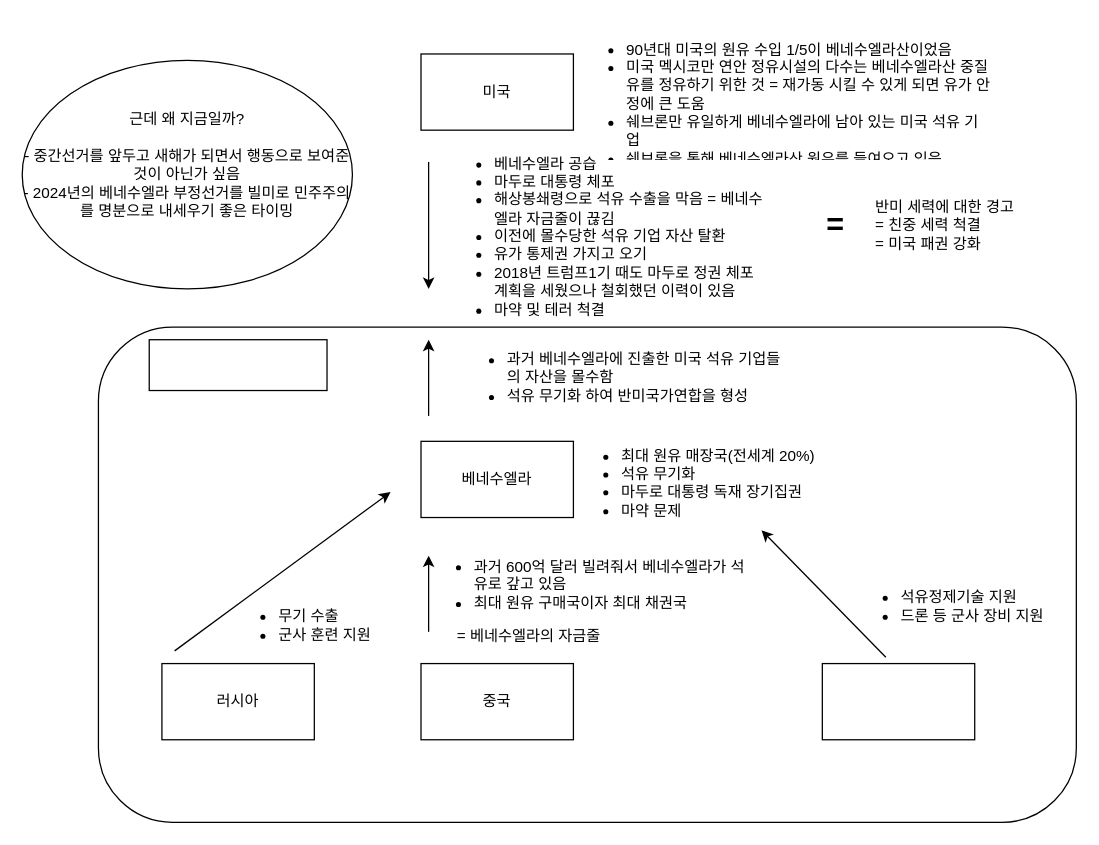
Some shapes in this 1099 by 845 pixel diagram are drawn without their labels. The centre of each missing label's shape, as x and y in pixels:
"반미국가" belongs at [237,364].
"이란" belongs at [898,701].
